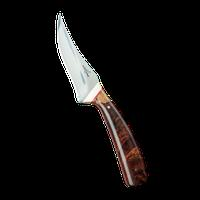knife: (49, 8, 144, 188)
